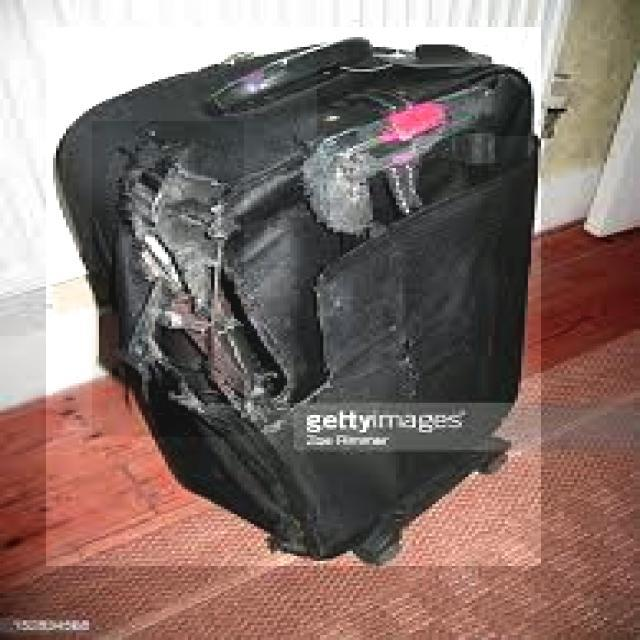Damage-bag: (115, 122, 369, 431), (398, 336, 422, 396), (268, 530, 308, 554)
